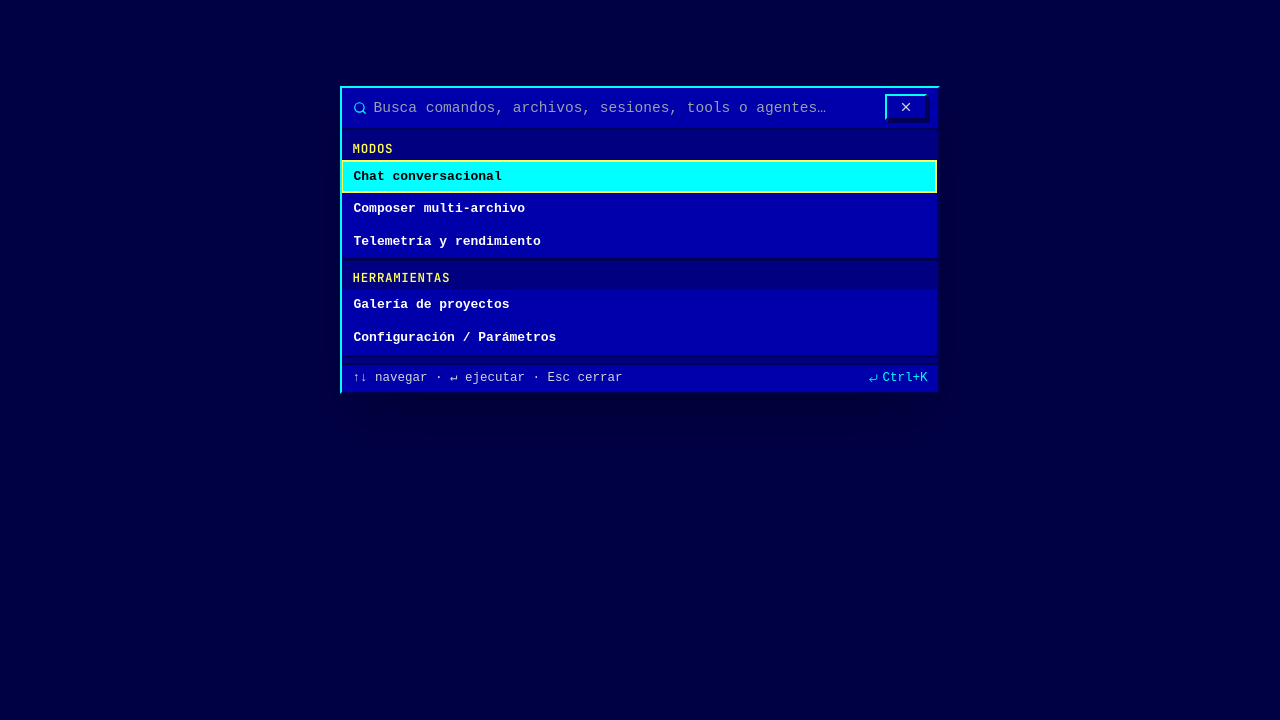
CommandPalette › muestra aviso cuando no hay coincidencias
The width and height of the screenshot is (1280, 720).
Type "zzzzzz" into the field named "Paleta de comandos". click: (626, 108)
box: x1=374 y1=98 x2=878 y2=119
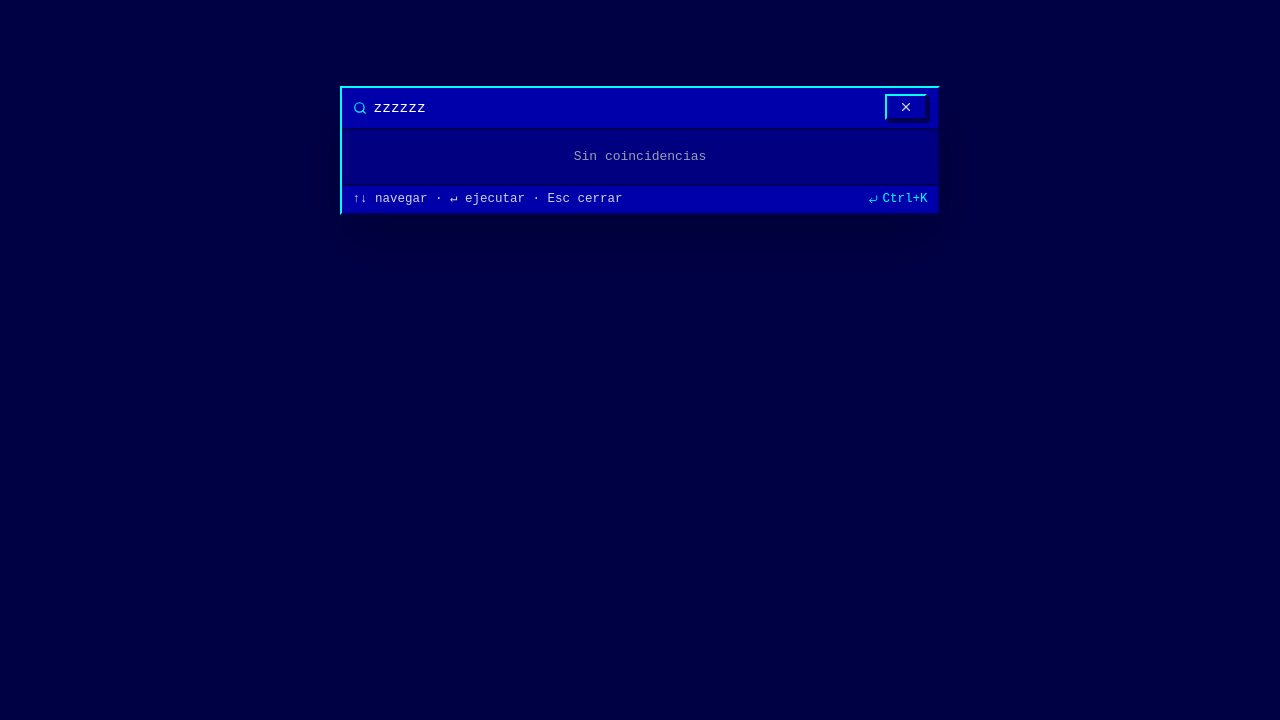
Check: the text "Sin coincidencias" is shown, box x1=574 y1=149 x2=706 y2=164
